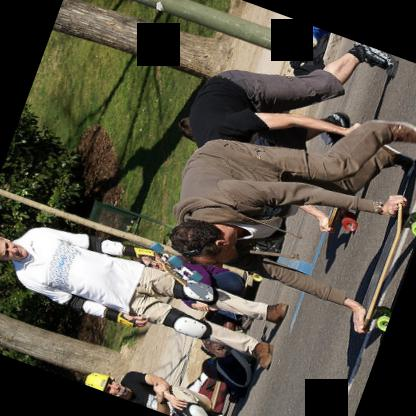backpack: (289, 32, 329, 75), (309, 24, 330, 39)
